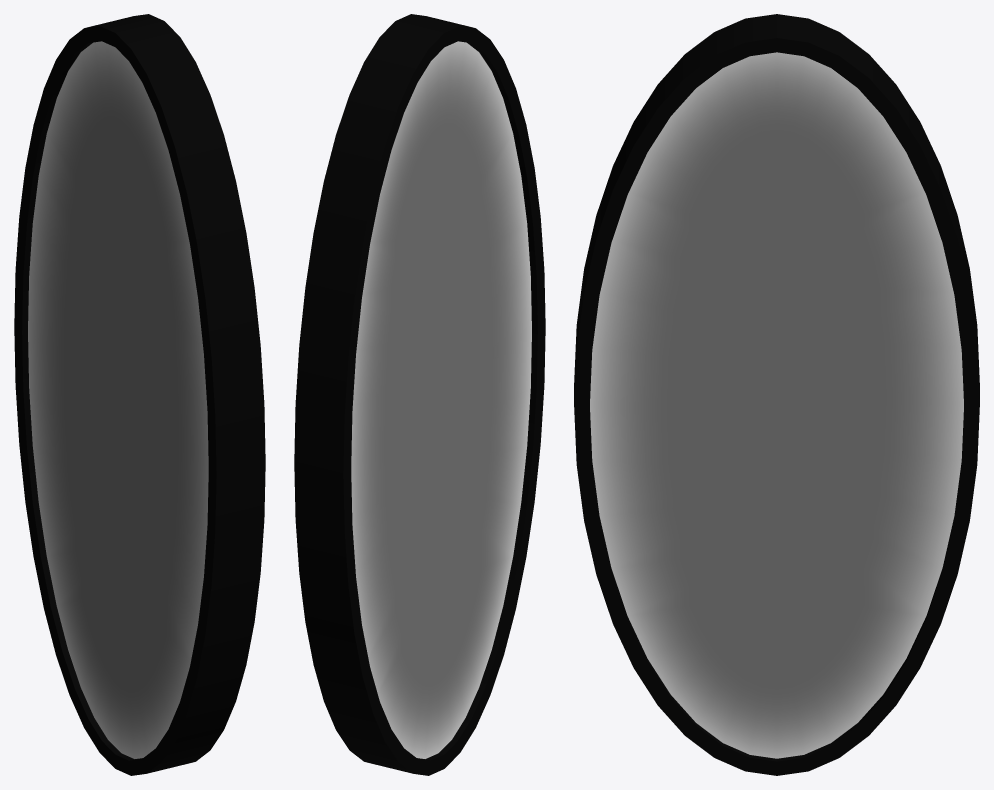
The model's file is Portals_Disc.fbx.
3 renders of one model, left to right at view 1: azimuth 30°, elevation 25°; view 2: azimuth 150°, elevation 25°; view 3: azimuth 270°, elevation 25°, orthographic.
Parts seen in each view (by area): view 1: Portal_Disc; view 2: Portal_Disc; view 3: Portal_Disc.
Boxes of the visible parts, x1,y1,x2,y2 form: Portal_Disc: [14, 14, 265, 775]; Portal_Disc: [294, 14, 545, 775]; Portal_Disc: [574, 14, 979, 775].
Bounding box in the file's own units: 16.67 × 239 × 119.
Materials: 1 (1 with a texture image).
